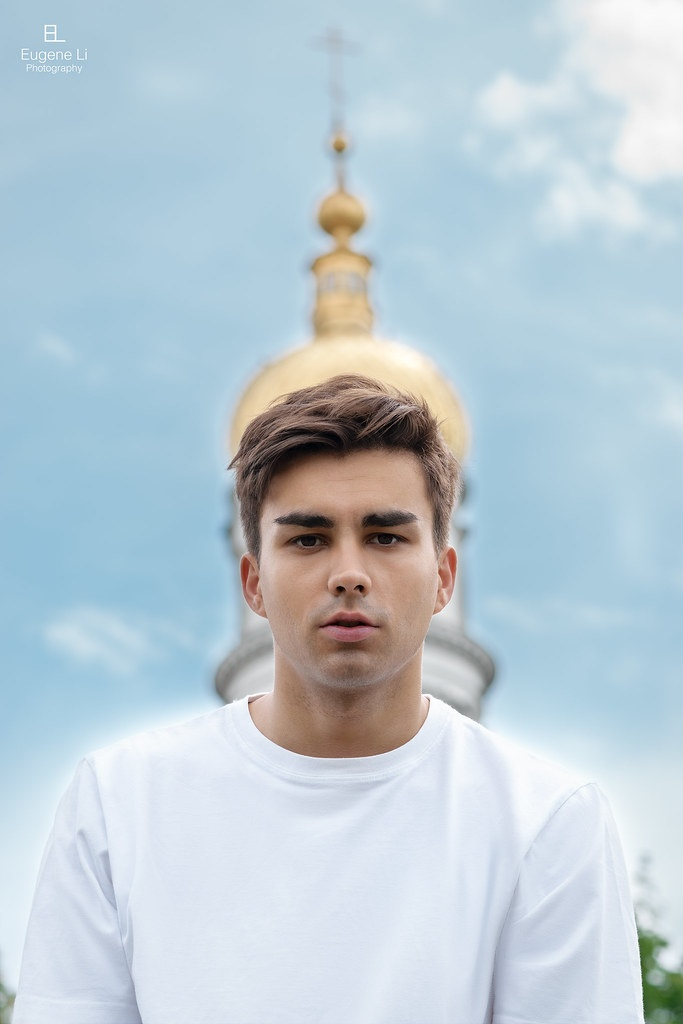without_mask: (244, 437, 449, 695)
